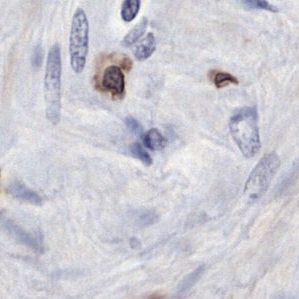Lymphocyte: (99, 62, 130, 94)
